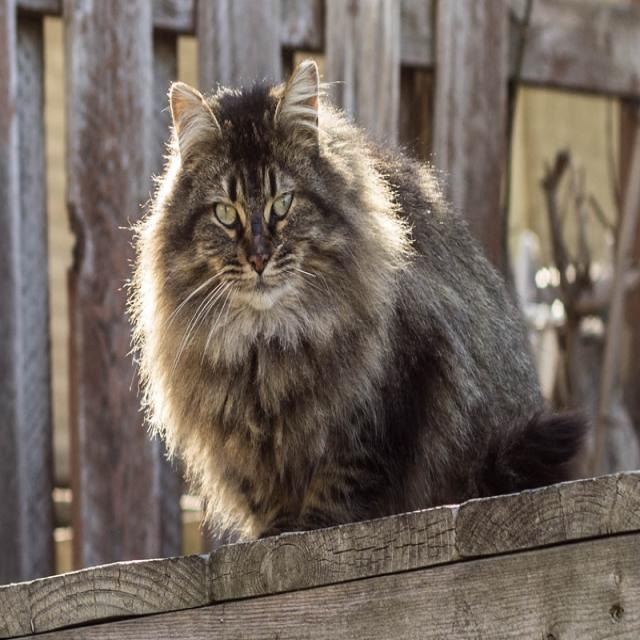cat: (129, 60, 585, 538)
